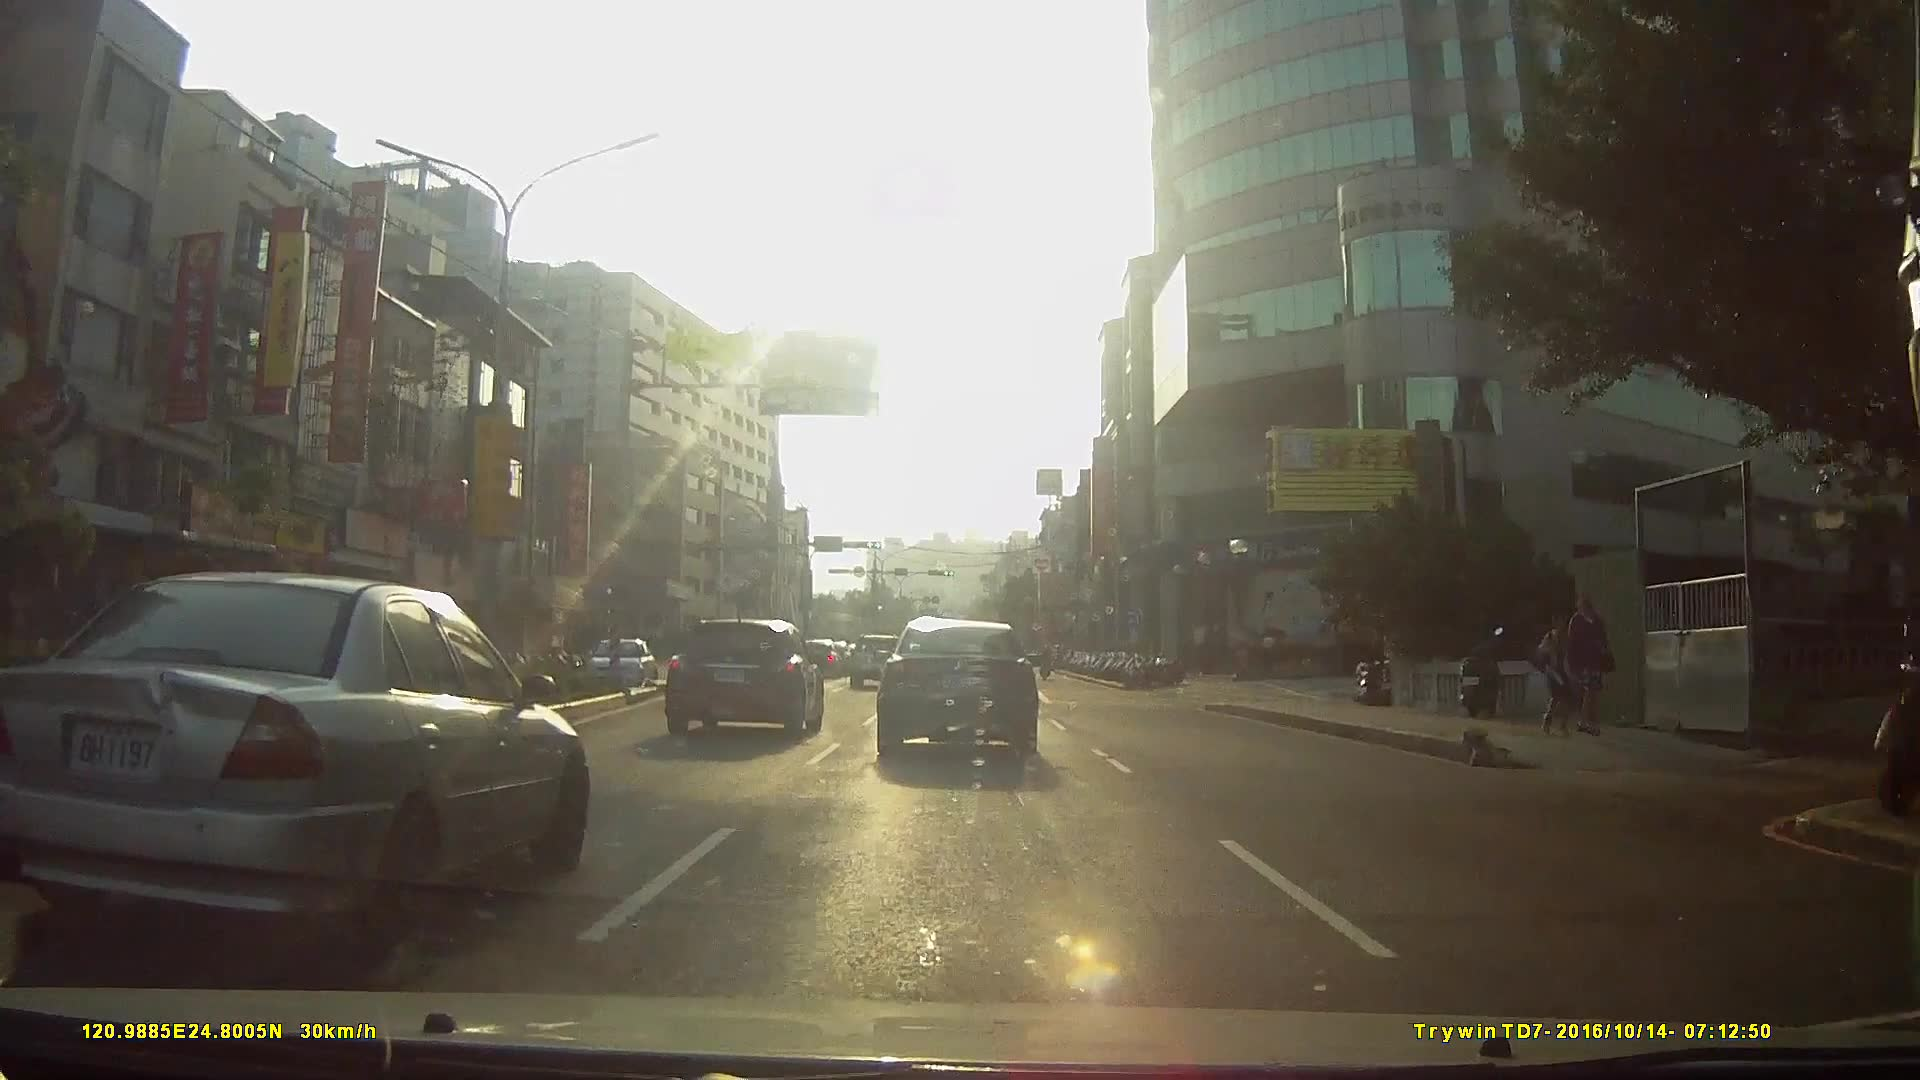pedestrian: (1558, 587, 1614, 731), (1532, 607, 1587, 734)
vehicle: (0, 567, 590, 951), (872, 614, 1038, 760), (662, 614, 824, 737), (587, 638, 661, 697), (844, 631, 904, 687)
